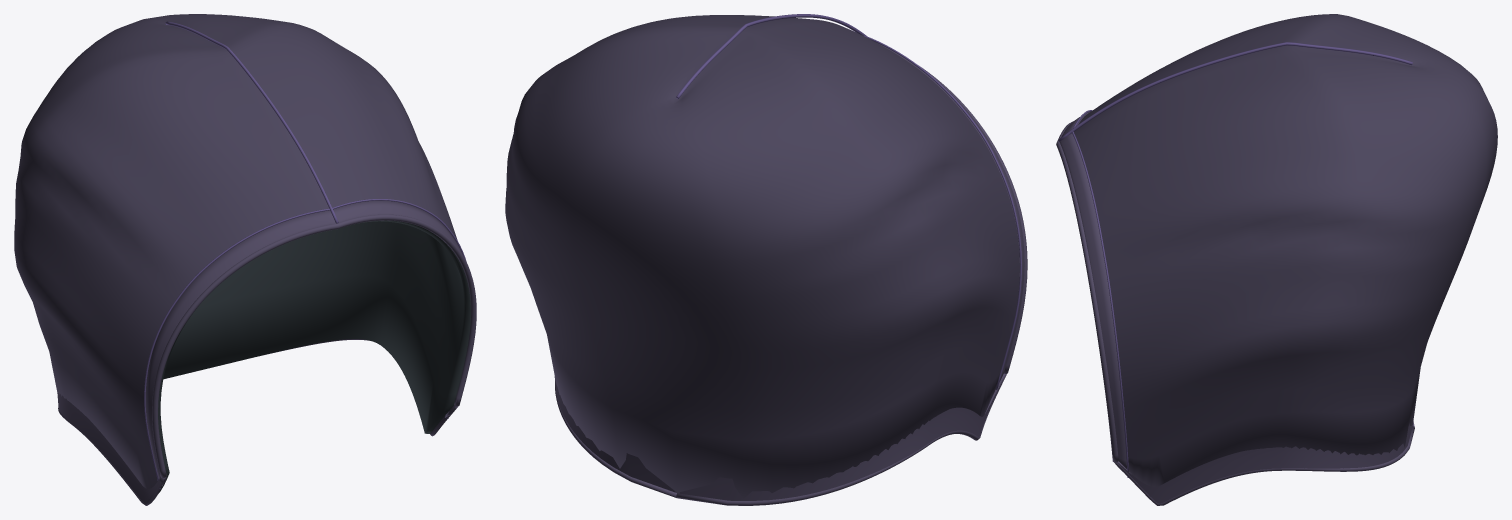
File: shadow-hood.glb
The picture shows the model from 3 angles, left to right: view 1: azimuth 30°, elevation 25°; view 2: azimuth 150°, elevation 25°; view 3: azimuth 270°, elevation 25°; orthographic projection. The views are drawn at different scales.
Visible parts, largest first — view 1: Continuous draped cloth hood, Folded face opening hem, Soft rolled outer lip, Turned lower cloth hem, Inset stitched hem line, Tailored crown seam; view 2: Continuous draped cloth hood, Turned lower cloth hem, Soft lower cloth edge, Turned lower cloth hem.001, Folded face opening hem, Soft rolled outer lip, Inset stitched hem line, Tailored crown seam, Soft lower cloth edge.001; view 3: Continuous draped cloth hood, Turned lower cloth hem.001, Folded face opening hem, Soft rolled outer lip, Tailored crown seam, Soft lower cloth edge.001, Inset stitched hem line.
Boxes of the visible parts, x1,y1,x2,y2 form: Continuous draped cloth hood: (14,14,470,493); Folded face opening hem: (145,200,470,486); Soft rolled outer lip: (152,214,476,477); Turned lower cloth hem: (57,391,160,502); Inset stitched hem line: (144,199,466,489); Tailored crown seam: (165,21,338,223); Continuous draped cloth hood: (505,15,1019,498); Turned lower cloth hem: (679,375,1005,500); Soft lower cloth edge: (676,373,1006,505); Turned lower cloth hem.001: (554,376,675,492); Folded face opening hem: (878,43,1024,381); Soft rolled outer lip: (920,66,1027,373); Inset stitched hem line: (864,35,1021,389); Tailored crown seam: (676,14,866,98); Soft lower cloth edge.001: (555,382,676,497); Continuous draped cloth hood: (1074,14,1497,486); Turned lower cloth hem.001: (1117,423,1412,503); Folded face opening hem: (1059,112,1126,471); Soft rolled outer lip: (1056,121,1118,462); Tailored crown seam: (1058,42,1412,141); Soft lower cloth edge.001: (1114,426,1414,505); Inset stitched hem line: (1072,110,1128,477).
Bounding box in the file's own units: 0.8073 × 0.7576 × 0.7755.
